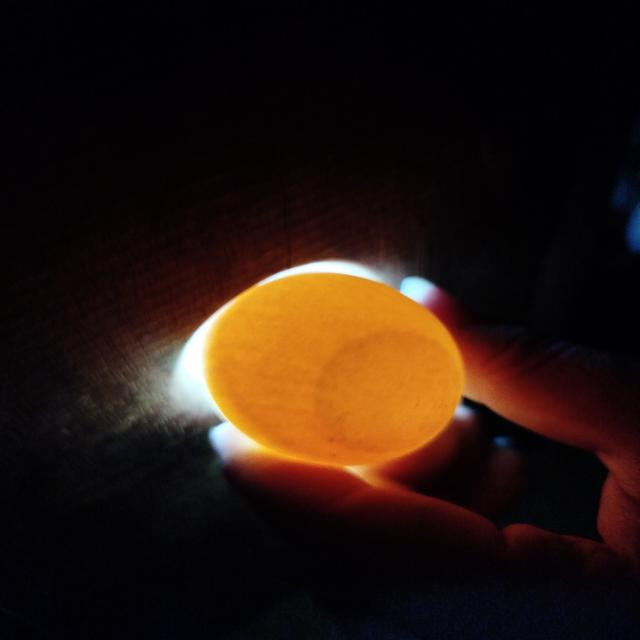Camara de Ar: (313, 331, 460, 452)
